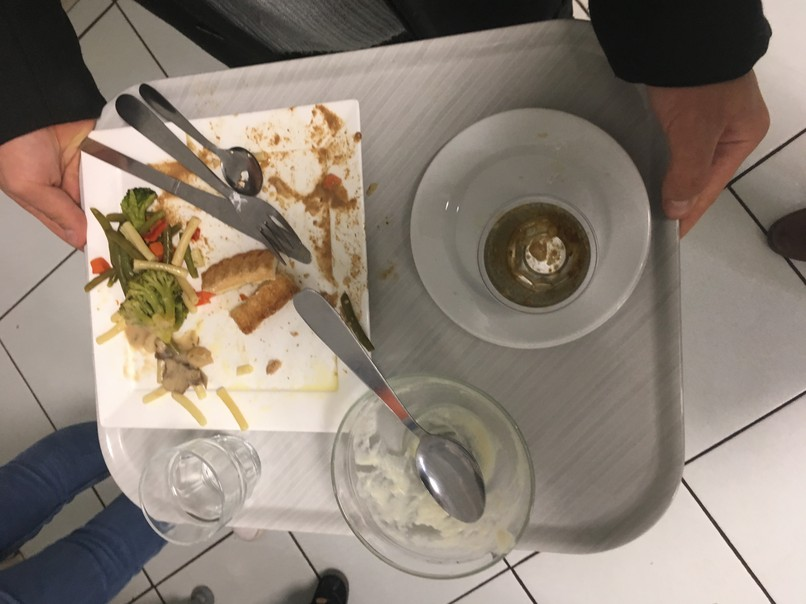cup: (138, 436, 268, 549)
cutlery: (285, 280, 500, 520), (48, 83, 318, 267)
orga: (95, 200, 200, 344), (210, 252, 298, 325), (150, 347, 238, 414)
trash: (469, 199, 600, 314)
